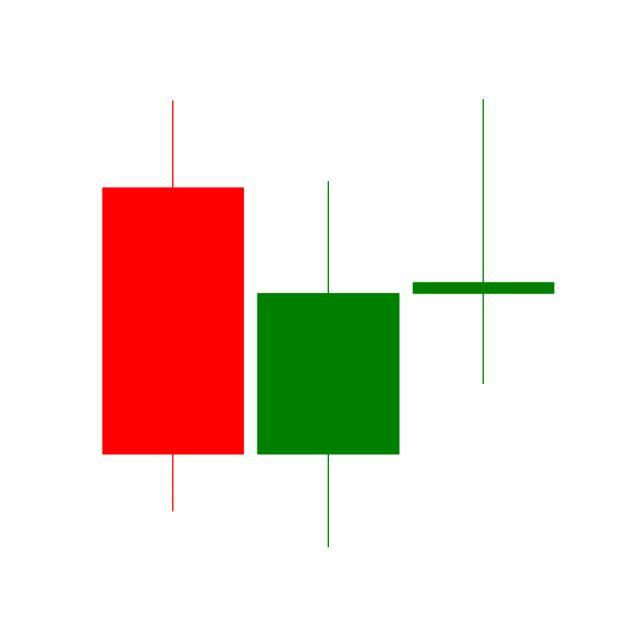Spinning Top: (406, 97, 562, 388)
